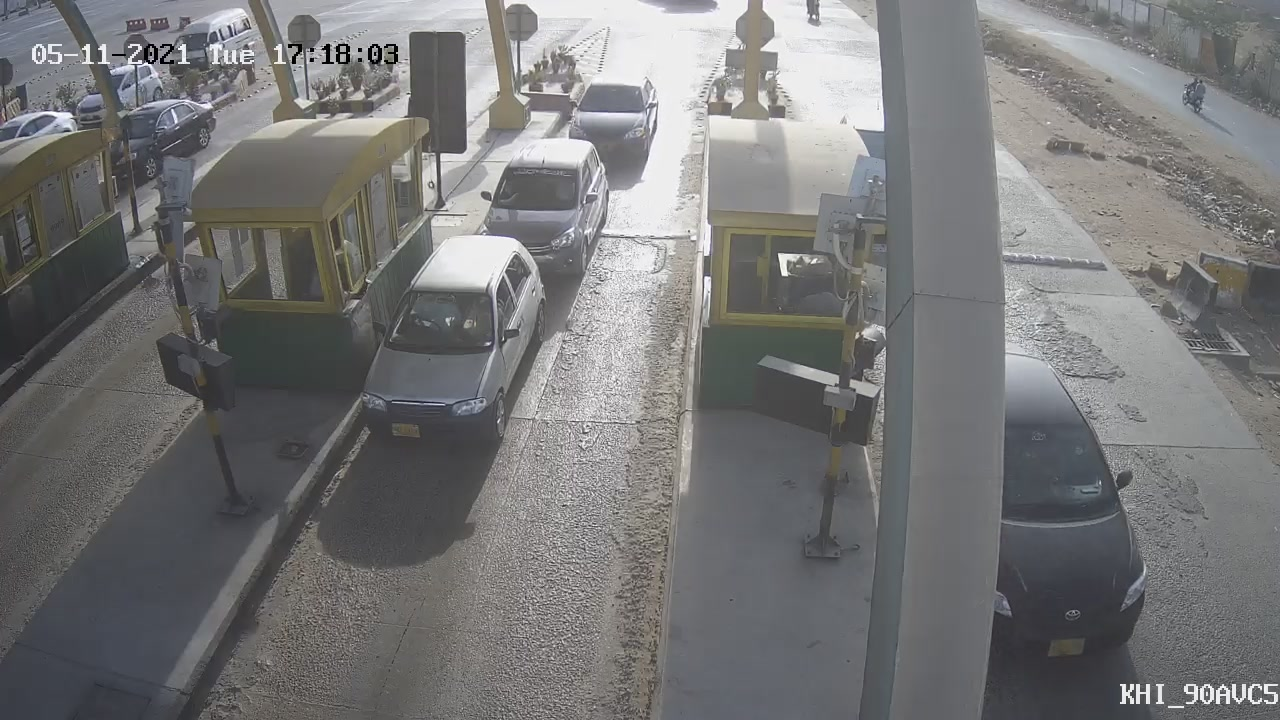F1: (346, 217, 561, 469), (460, 126, 631, 301), (548, 57, 674, 182)
